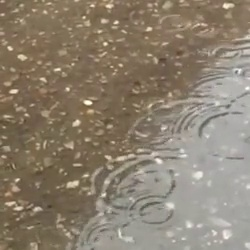drop: (93, 154, 176, 211), (178, 103, 250, 161), (190, 74, 250, 102), (127, 196, 177, 229), (88, 222, 122, 250), (159, 14, 189, 33), (211, 44, 242, 61), (190, 21, 212, 38)
